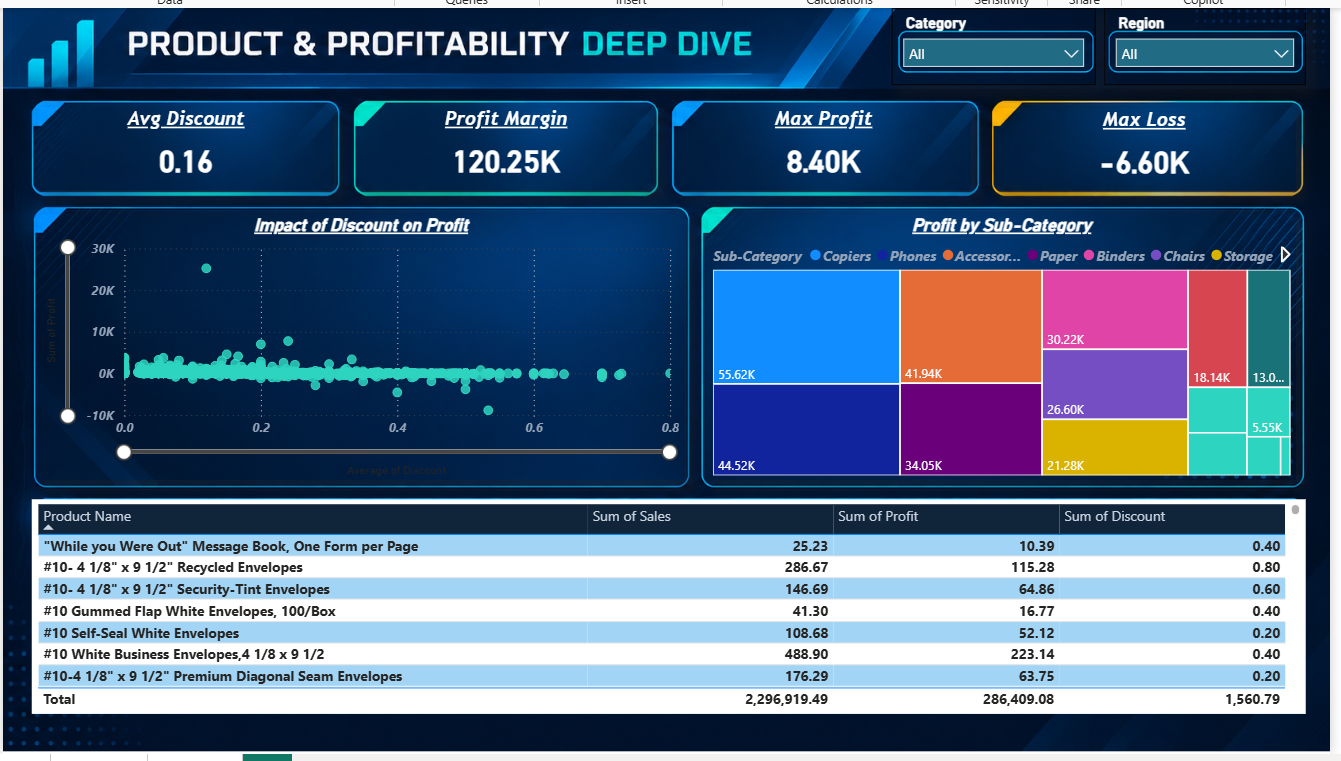

Layout of this report page (visuals, bound fields, positions):
{"tool":"powerbi","page":{"name":"Page 2","canvas":[1280,720],"ordinal":1},"visuals":[{"type":"slicer","fields":{"Values":["Cleaned_Superstore_Sales.Region"]},"box":[1062.9,0,194.2,74.8],"z":1000},{"type":"card","title":"Avg Discount","fields":{"Values":["Cleaned_Superstore_Sales.Avg Discount: Avg Discount"]},"box":[33.8,95.3,285.9,80.8],"z":2000},{"type":"card","title":"Profit Margin","fields":{"Values":["Sum(Cleaned_Superstore_Sales.Profit_Margin_%)"]},"box":[342.6,95.3,285.9,80.8],"z":3000},{"type":"card","title":"Max Profit","fields":{"Values":["Cleaned_Superstore_Sales.Max Profit"]},"box":[649.1,95.3,285.9,80.8],"z":4000},{"type":"card","title":"Max Loss","fields":{"Values":["Cleaned_Superstore_Sales.Max Loss"]},"box":[955.5,96.5,292,80.8],"z":5000},{"type":"scatterChart","title":"Impact of Discount on Profit","fields":{"X":["Cleaned_Superstore_Sales.Discount"],"Y":["Sum(Cleaned_Superstore_Sales.Profit)"],"Category":["Cleaned_Superstore_Sales.Product Name"]},"box":[33.8,199.1,623.7,257],"z":6000},{"type":"treemap","title":"Profit by Sub-Category","fields":{"Group":["Cleaned_Superstore_Sales.Sub-Category"],"Values":["Sum(Cleaned_Superstore_Sales.Profit)"]},"box":[680.4,199.1,567,257],"z":7000},{"type":"tableEx","fields":{"Values":["Cleaned_Superstore_Sales.Product Name","Sum(Cleaned_Superstore_Sales.Sales)","Sum(Cleaned_Superstore_Sales.Profit)","Sum(Cleaned_Superstore_Sales.Discount)"]},"box":[27.7,474.1,1229.4,207.5],"z":8000},{"type":"slicer","fields":{"Values":["Cleaned_Superstore_Sales.Category"]},"box":[857.8,0,196.6,74.8],"z":8001}]}

Visuals, with their boxes on the page's 1280x720 design canvas (x1, y1, x2, y2). These are canvas units, not pixel positions in the 1341x761 screenshot, which may show the page scaled, cropped or inside an application window:
slicer - Cleaned_Superstore_Sales.Region: 1063,0,1257,75
"Avg Discount" card: 34,95,320,176
"Profit Margin" card: 343,95,628,176
"Max Profit" card: 649,95,935,176
"Max Loss" card: 956,96,1248,177
"Impact of Discount on Profit" scatterChart: 34,199,658,456
"Profit by Sub-Category" treemap: 680,199,1247,456
tableEx - Cleaned_Superstore_Sales.Product Name x Sum(Cleaned_Superstore_Sales.Sales): 28,474,1257,682
slicer - Cleaned_Superstore_Sales.Category: 858,0,1054,75
